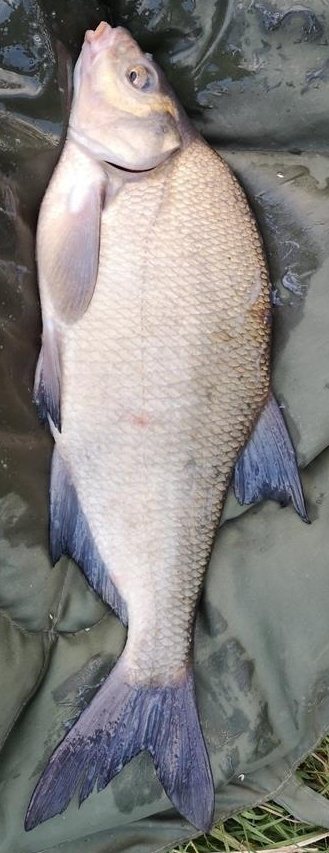Abramis brama: (20, 20, 309, 833)
